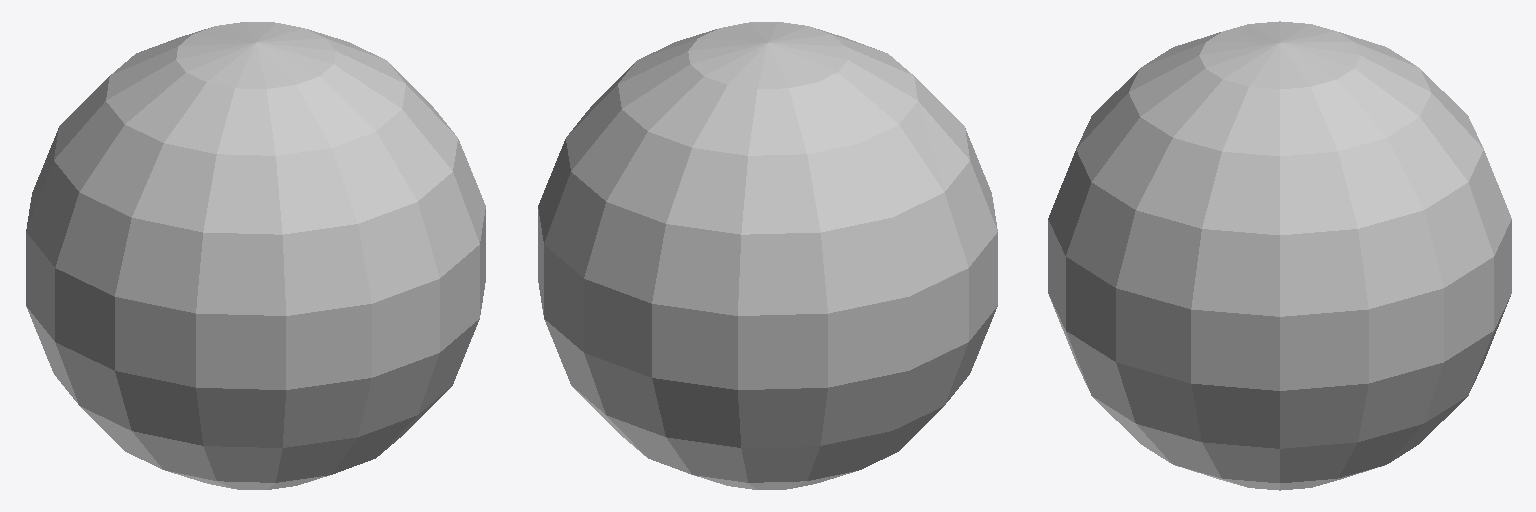
File: sphere_lowres.obj
The picture shows the model from 3 angles: view 1: azimuth 30°, elevation 25°; view 2: azimuth 150°, elevation 25°; view 3: azimuth 270°, elevation 25°; orthographic projection.
Parts seen in each view (by area): view 1: <OFFRoot>; view 2: <OFFRoot>; view 3: <OFFRoot>.
Boxes of the visible parts, <box> form: <OFFRoot>: <box>26,22,485,489</box>; <OFFRoot>: <box>538,22,997,489</box>; <OFFRoot>: <box>1048,21,1511,490</box>.
Size of the model in its own units: 0.0552 by 0.056 by 0.0552.